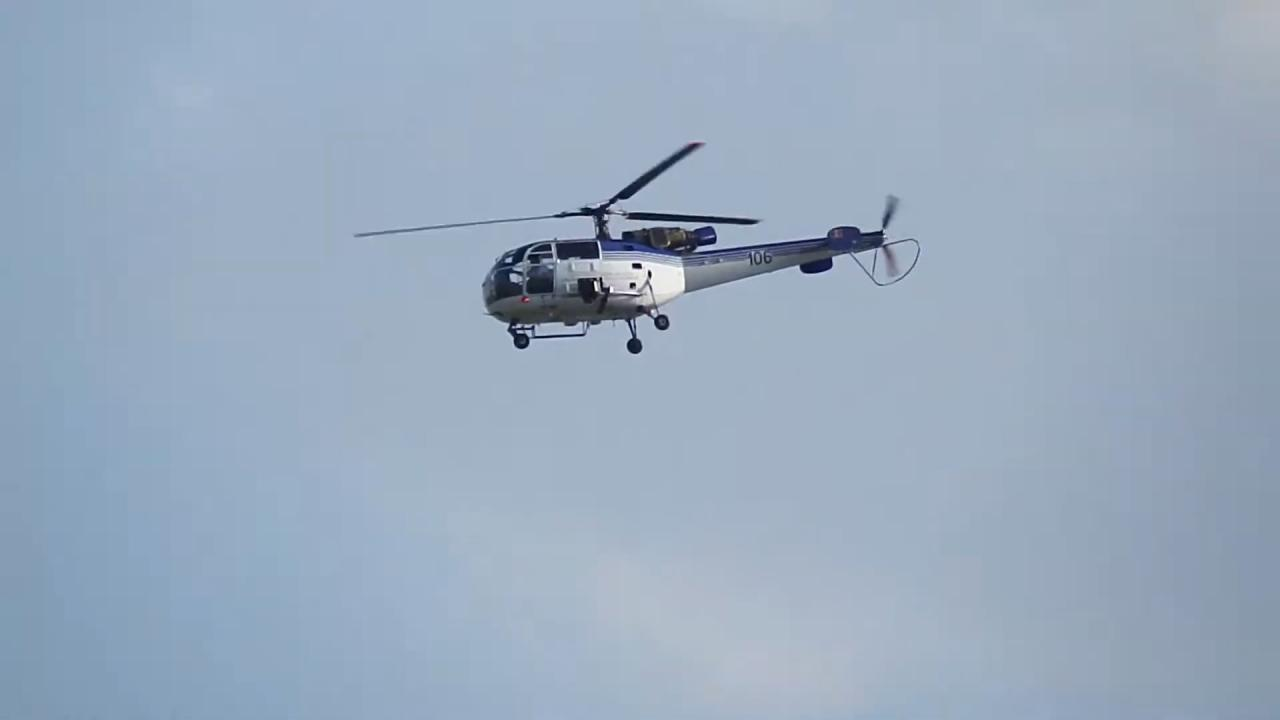Helicopter: (341, 127, 934, 373)
